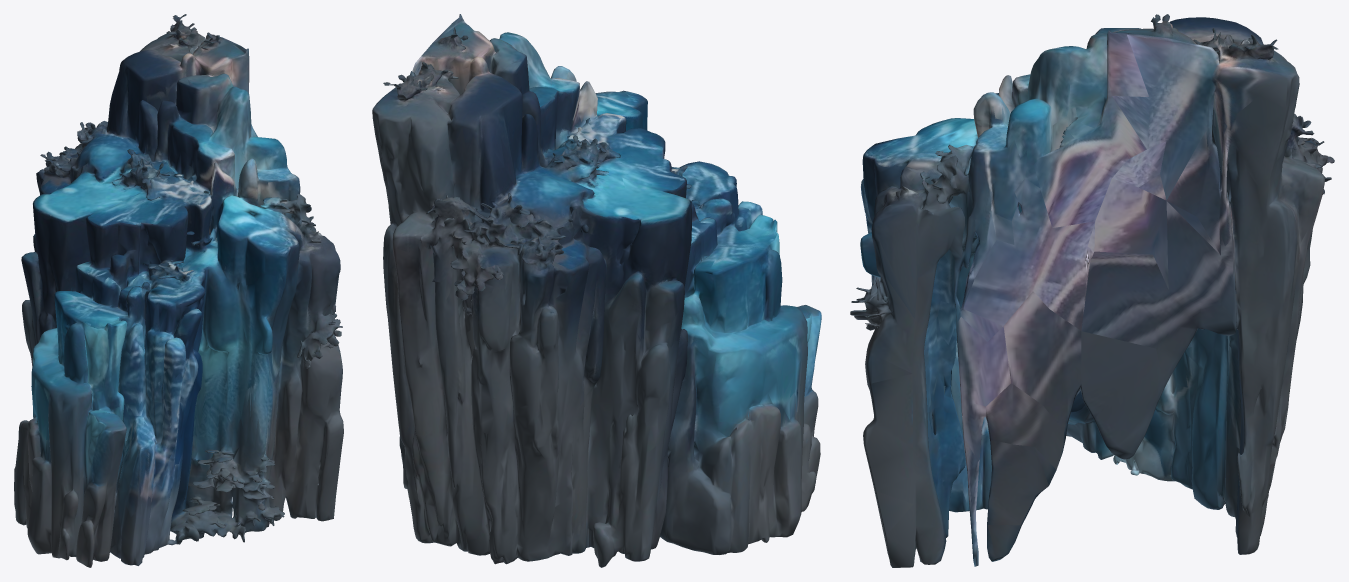
File: ice_cliff.glb
3 renders of one model, left to right at view 1: azimuth 30°, elevation 25°; view 2: azimuth 150°, elevation 25°; view 3: azimuth 270°, elevation 25°, orthographic. The views are drawn at different scales.
Visible parts, largest first — view 1: tripo_node_c45734f1-3801-4b8c-b427-82fc94b6b319; view 2: tripo_node_c45734f1-3801-4b8c-b427-82fc94b6b319; view 3: tripo_node_c45734f1-3801-4b8c-b427-82fc94b6b319.
Part boxes in pixels (x1,y1,x2,y2): tripo_node_c45734f1-3801-4b8c-b427-82fc94b6b319: (14, 14, 343, 567); tripo_node_c45734f1-3801-4b8c-b427-82fc94b6b319: (372, 14, 821, 567); tripo_node_c45734f1-3801-4b8c-b427-82fc94b6b319: (850, 14, 1334, 567).
Size of the model in its own units: 0.648 by 1 by 0.7958.
Materials: 1 (1 with a texture image).
